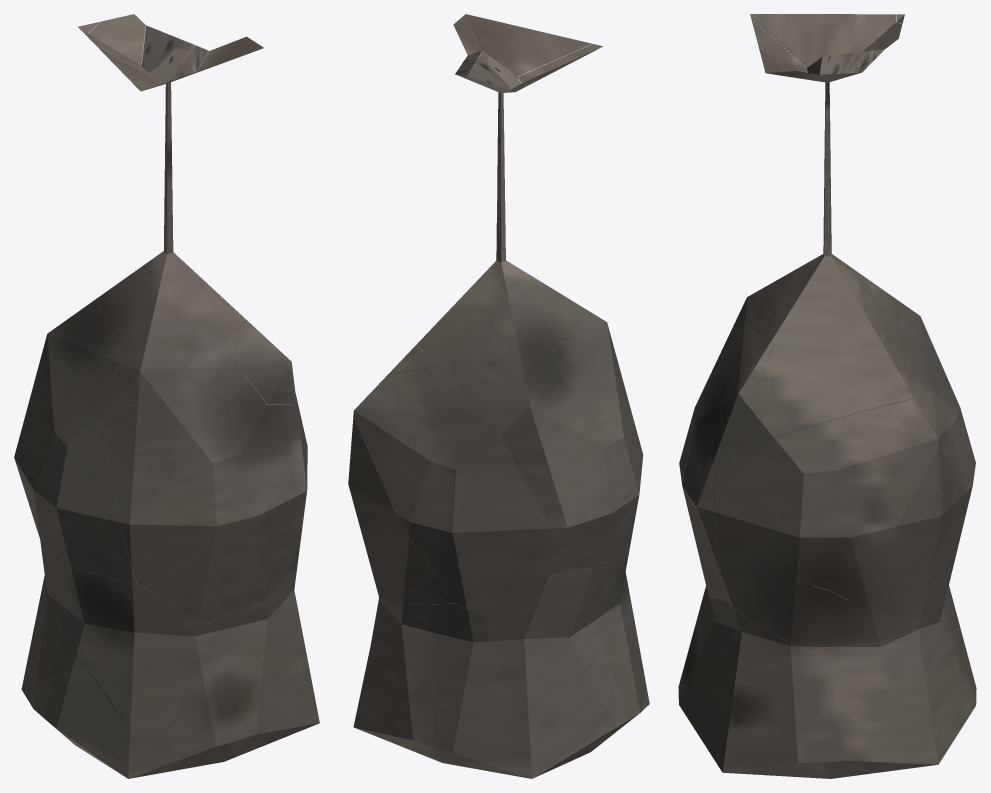
The model's file is Broken Cacoon.fbx.
The picture shows the model from 3 angles, left to right: view 1: azimuth 30°, elevation 25°; view 2: azimuth 150°, elevation 25°; view 3: azimuth 270°, elevation 25°; orthographic projection. The views are drawn at different scales.
Parts seen in each view (by area): view 1: Cacoon_cell.020, Cacoon_cell.009, Cacoon_cell.018, Cacoon_cell.014, Cacoon_cell.012, Cacoon_cell.004, Cacoon_cell.022, Cacoon_cell.015, Cacoon_cell.001, Cacoon_cell.013, Cacoon_cell.023, Cacoon_cell.006 (+3 smaller); view 2: Cacoon_cell.011, Cacoon_cell.007, Cacoon_cell.020, Cacoon_cell.022, Cacoon_cell.004, Cacoon_cell.012, Cacoon_cell.019, Cacoon_cell.010, Cacoon_cell.015, Cacoon_cell.006, Cacoon_cell.013, Cacoon_cell.008 (+2 smaller); view 3: Cacoon_cell.002, Cacoon_cell.018, Cacoon_cell.007, Cacoon_cell.001, Cacoon_cell.019, Cacoon_cell.004, Cacoon_cell.008, Cacoon_cell.011, Cacoon_cell.014, Cacoon_cell.016, Cacoon_cell.023, Cacoon_cell.006 (+4 smaller).
Part boxes in pixels (<box>): Cacoon_cell.020: <box>22,504,222,752</box>; Cacoon_cell.009: <box>104,375,238,587</box>; Cacoon_cell.018: <box>167,571,319,764</box>; Cacoon_cell.014: <box>145,404,307,625</box>; Cacoon_cell.012: <box>14,432,136,584</box>; Cacoon_cell.004: <box>95,211,246,366</box>; Cacoon_cell.022: <box>17,300,118,446</box>; Cacoon_cell.015: <box>31,657,135,764</box>; Cacoon_cell.001: <box>184,331,301,447</box>; Cacoon_cell.013: <box>113,327,186,406</box>; Cacoon_cell.023: <box>236,320,296,404</box>; Cacoon_cell.006: <box>141,25,208,169</box>; Cacoon_cell.011: <box>355,366,548,612</box>; Cacoon_cell.007: <box>353,598,537,778</box>; Cacoon_cell.020: <box>482,550,641,773</box>; Cacoon_cell.022: <box>476,337,621,524</box>; Cacoon_cell.004: <box>416,222,573,373</box>; Cacoon_cell.012: <box>537,398,642,575</box>; Cacoon_cell.019: <box>348,419,455,604</box>; Cacoon_cell.010: <box>453,14,592,76</box>; Cacoon_cell.015: <box>602,638,646,736</box>; Cacoon_cell.006: <box>455,50,520,178</box>; Cacoon_cell.013: <box>568,299,615,366</box>; Cacoon_cell.008: <box>465,44,602,92</box>; Cacoon_cell.002: <box>714,399,939,635</box>; Cacoon_cell.018: <box>678,596,846,777</box>; Cacoon_cell.007: <box>813,585,976,773</box>; Cacoon_cell.001: <box>710,326,912,484</box>; Cacoon_cell.019: <box>819,447,967,648</box>; Cacoon_cell.004: <box>746,214,903,359</box>; Cacoon_cell.008: <box>750,14,902,68</box>; Cacoon_cell.011: <box>902,334,975,505</box>; Cacoon_cell.014: <box>680,381,729,601</box>; Cacoon_cell.016: <box>779,578,848,652</box>; Cacoon_cell.023: <box>720,341,772,431</box>; Cacoon_cell.006: <box>806,49,884,171</box>.
Bounding box in the file's own units: 307 × 817 × 307.
1 material, 1 textured.
